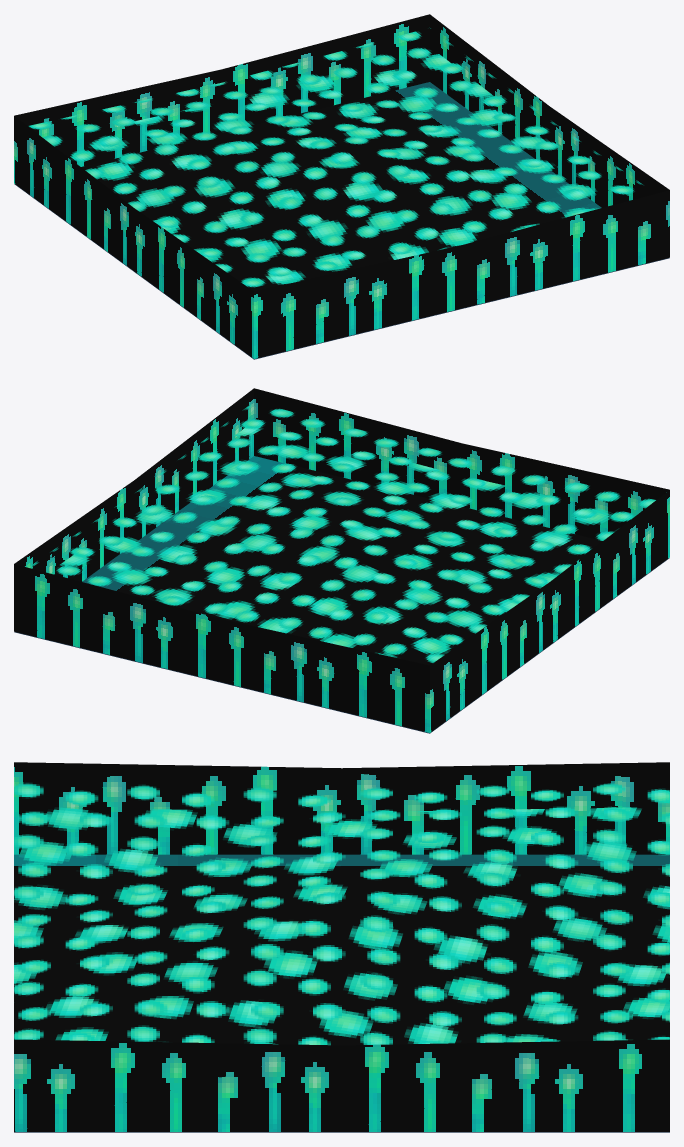
The model's file is mold_field.glb.
3 renders of one model, top to bottom at view 1: azimuth 30°, elevation 25°; view 2: azimuth 150°, elevation 25°; view 3: azimuth 270°, elevation 25°, orthographic. The views are drawn at different scales.
Visible parts, largest first — view 1: Cube.006, Cube.007, Cube.008, Plane.002; view 2: Cube.006, Cube.007, Cube.008, Plane.002; view 3: Cube.006, Cube.007, Cube.008, Plane.002.
Part boxes in pixels (x1=…): Cube.006: x1=14, y1=14, x2=669, y2=358; Cube.007: x1=29, y1=28, x2=642, y2=287; Cube.008: x1=89, y1=54, x2=630, y2=284; Plane.002: x1=14, y1=184, x2=669, y2=359; Cube.006: x1=14, y1=388, x2=669, y2=732; Cube.007: x1=30, y1=404, x2=655, y2=662; Cube.008: x1=60, y1=426, x2=617, y2=657; Plane.002: x1=14, y1=558, x2=669, y2=733; Cube.006: x1=14, y1=762, x2=669, y2=1131; Cube.007: x1=14, y1=783, x2=669, y2=1045; Cube.008: x1=14, y1=807, x2=669, y2=1044; Plane.002: x1=14, y1=1132, x2=669, y2=1132.
Bounding box in the file's own units: 2 × 0.3171 × 2.
4 materials, 3 textured.
